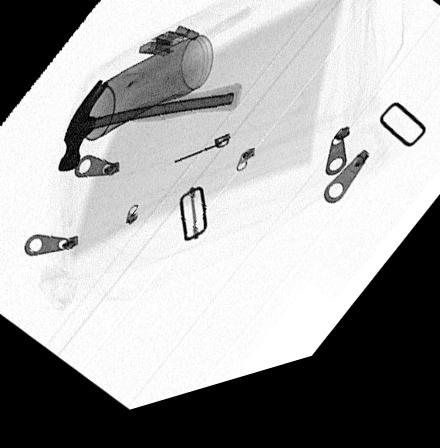Hammer: (57, 84, 242, 174)
